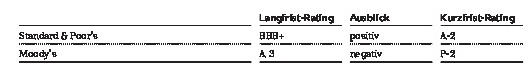table: (0, 0, 532, 82)
